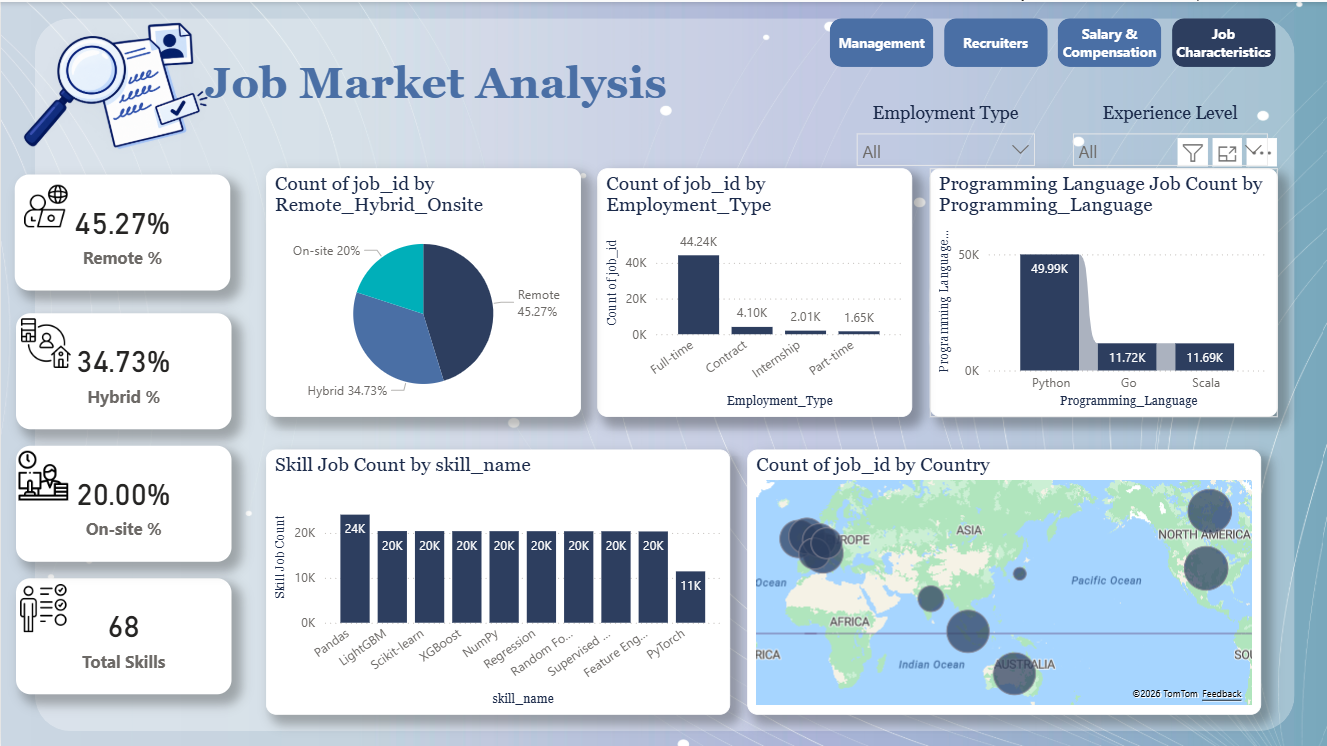

What the dashboard file says about the page in this screenshot:
{"tool":"powerbi","page":{"name":"Job Characteristics","canvas":[1280,720],"ordinal":3},"visuals":[{"type":"shape","box":[32,16,1216,688],"z":0},{"type":"image","box":[16,0,192,160],"z":1000},{"type":"textbox","box":[192,48,480,64],"z":2000},{"type":"columnChart","fields":{"Category":["dim_skill.skill_name"],"Y":["dim_skill.Skill Job Count"]},"box":[256,432,448,256],"z":3000},{"type":"columnChart","fields":{"Category":["dim_programming_language.Programming_Language"],"Y":["dim_programming_language.Programming Language Job Count"]},"box":[896,160,336,240],"z":4000},{"type":"card","title":"most re","fields":{"Values":["dim_job_info.Remote %"]},"box":[13.4,166.7,208,112],"z":5000},{"type":"card","fields":{"Values":["dim_job_info.Hybrid %"]},"box":[14.3,300.6,208,112],"z":6000},{"type":"card","fields":{"Values":["CountNonNull(dim_skill.skill_id)"]},"box":[14.3,556.6,208,112],"z":8000},{"type":"image","box":[19.1,173,48,48],"z":9000},{"type":"image","box":[19.8,305.7,48,48],"z":10000},{"type":"image","box":[16.4,560.9,48,48],"z":12000},{"type":"clusteredColumnChart","fields":{"Y":["CountNonNull(dim_job_info.job_id)"],"Category":["dim_job_info.Employment_Type"]},"box":[576,160,304,240],"z":13000},{"type":"pieChart","fields":{"Y":["CountNonNull(dim_job_info.job_id)"],"Category":["dim_job_info.Remote_Hybrid_Onsite"]},"box":[256,160,304,240],"z":14000},{"type":"azureMap","fields":{"Values":["dim_company_info.Company_Industry","dim_compensation.Average Salary USD"],"Category":["dim_job_info.Country"],"Size":["CountNonNull(dim_job_info.job_id)"]},"box":[720,432,496,256],"z":15000},{"type":"slicer","title":"Experience Level","fields":{"Values":["dim_job_requirement.Experience_Level"]},"box":[1024,96,208,64],"z":15001},{"type":"slicer","title":"Employment Type","fields":{"Values":["dim_job_info.Employment_Type"]},"box":[816,96,192,64],"z":15002},{"type":"pageNavigator","box":[800,16,432,48],"z":15003},{"type":"card","fields":{"Values":["dim_job_info.On-site %"]},"box":[14.3,428.6,208,112],"z":15004},{"type":"image","box":[16.4,432.9,48,48],"z":15005}]}

Visuals, with their boxes in screenshot pixels (x1, y1, x2, y2), scaled from the page's 1280x720 canvas onto the 1327x746 screenshot:
shape: [x1=33, y1=17, x2=1294, y2=729]
image: [x1=17, y1=0, x2=216, y2=166]
textbox: [x1=199, y1=50, x2=697, y2=116]
columnChart - dim_skill.skill_name x dim_skill.Skill Job Count: [x1=265, y1=448, x2=730, y2=713]
columnChart - dim_programming_language.Programming_Language x dim_programming_language.Programming Language Job Count: [x1=929, y1=166, x2=1277, y2=414]
"most re" card: [x1=14, y1=173, x2=230, y2=289]
card - dim_job_info.Hybrid %: [x1=15, y1=311, x2=230, y2=427]
card - CountNonNull(dim_skill.skill_id): [x1=15, y1=577, x2=230, y2=693]
image: [x1=20, y1=179, x2=70, y2=229]
image: [x1=21, y1=317, x2=70, y2=366]
image: [x1=17, y1=581, x2=67, y2=631]
clusteredColumnChart - CountNonNull(dim_job_info.job_id) x dim_job_info.Employment_Type: [x1=597, y1=166, x2=912, y2=414]
pieChart - CountNonNull(dim_job_info.job_id) x dim_job_info.Remote_Hybrid_Onsite: [x1=265, y1=166, x2=581, y2=414]
azureMap - dim_company_info.Company_Industry x dim_compensation.Average Salary USD: [x1=746, y1=448, x2=1261, y2=713]
"Experience Level" slicer: [x1=1062, y1=99, x2=1277, y2=166]
"Employment Type" slicer: [x1=846, y1=99, x2=1045, y2=166]
pageNavigator: [x1=829, y1=17, x2=1277, y2=66]
card - dim_job_info.On-site %: [x1=15, y1=444, x2=230, y2=560]
image: [x1=17, y1=449, x2=67, y2=498]
